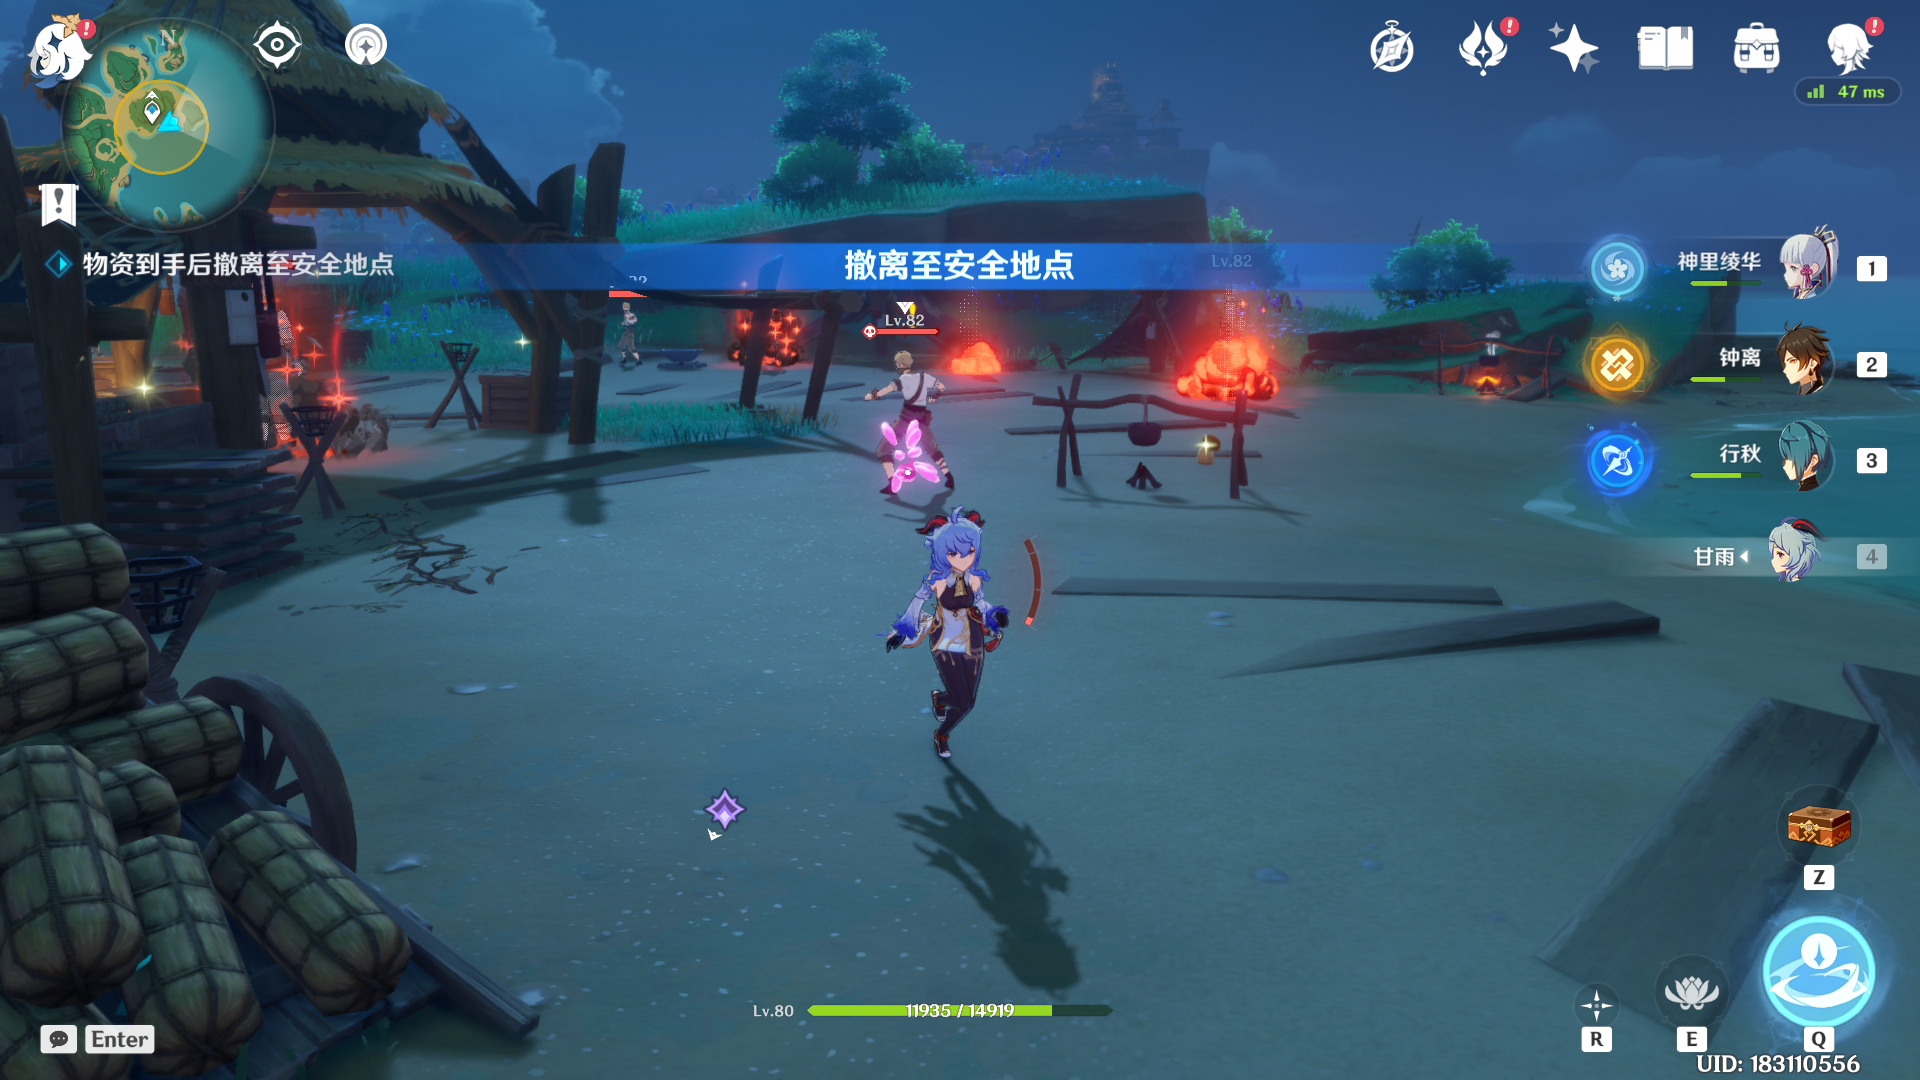character: (880, 489, 1080, 806)
robber: (836, 328, 978, 520), (597, 291, 654, 371)
